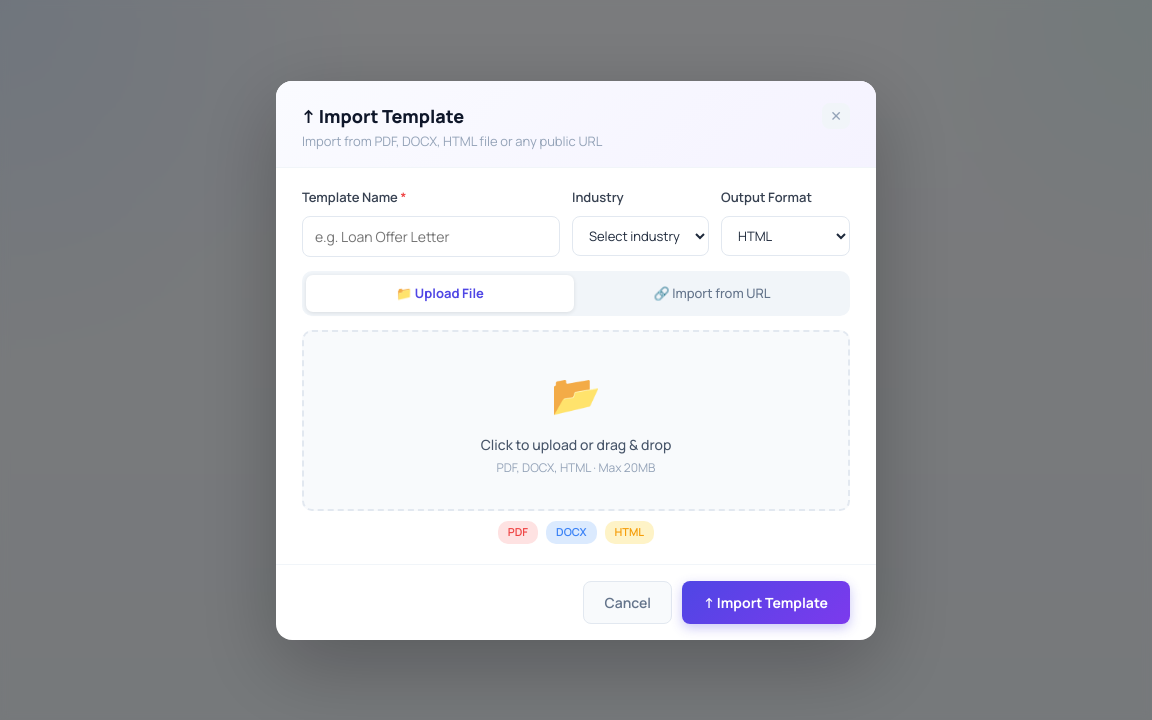
ImportTemplateModal › should_map_timeout_status_to_friendly_message_when_url_import_times_out
Click the button "🔗 Import from URL".
click(712, 293)  # box [578,274,846,312]
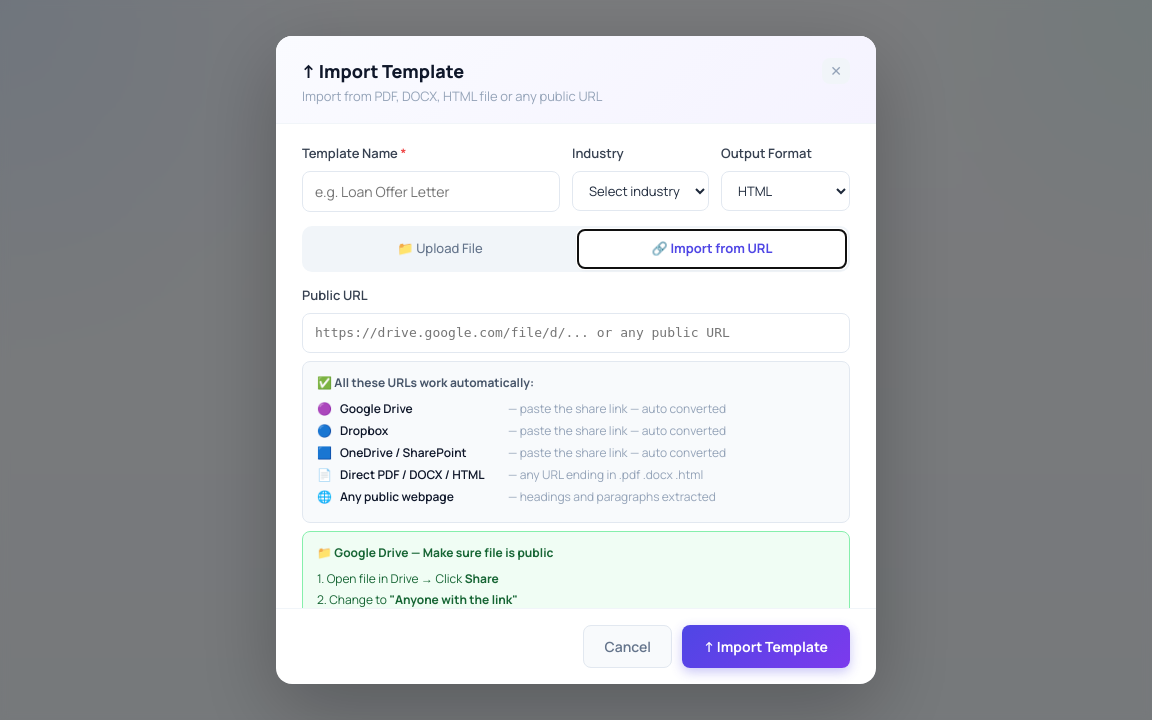
Type "Public Page" into the field with placeholder "e.g. Loan Offer Letter".
click(431, 192); type("Public Page")  # box [302,171,560,212]
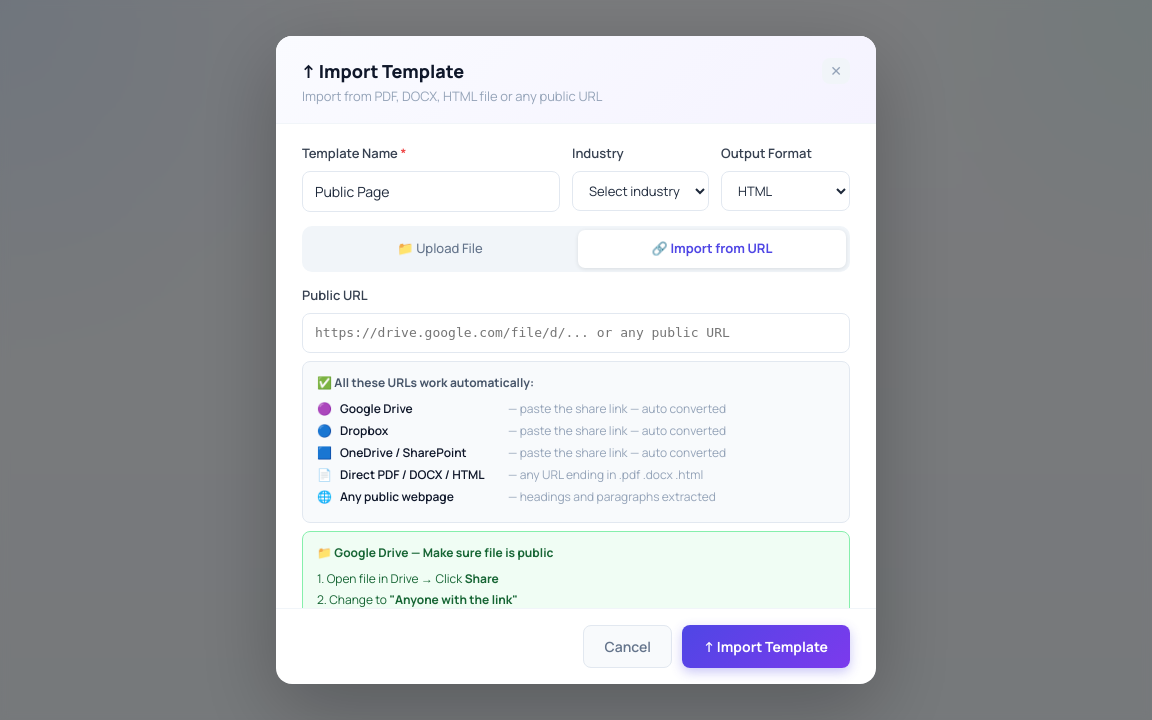
Type "https://example.com/template" into the field with placeholder "https://drive.google.com/file/d/... or any public URL".
click(576, 333); type("https://example.com/template")  # box [302,313,850,352]
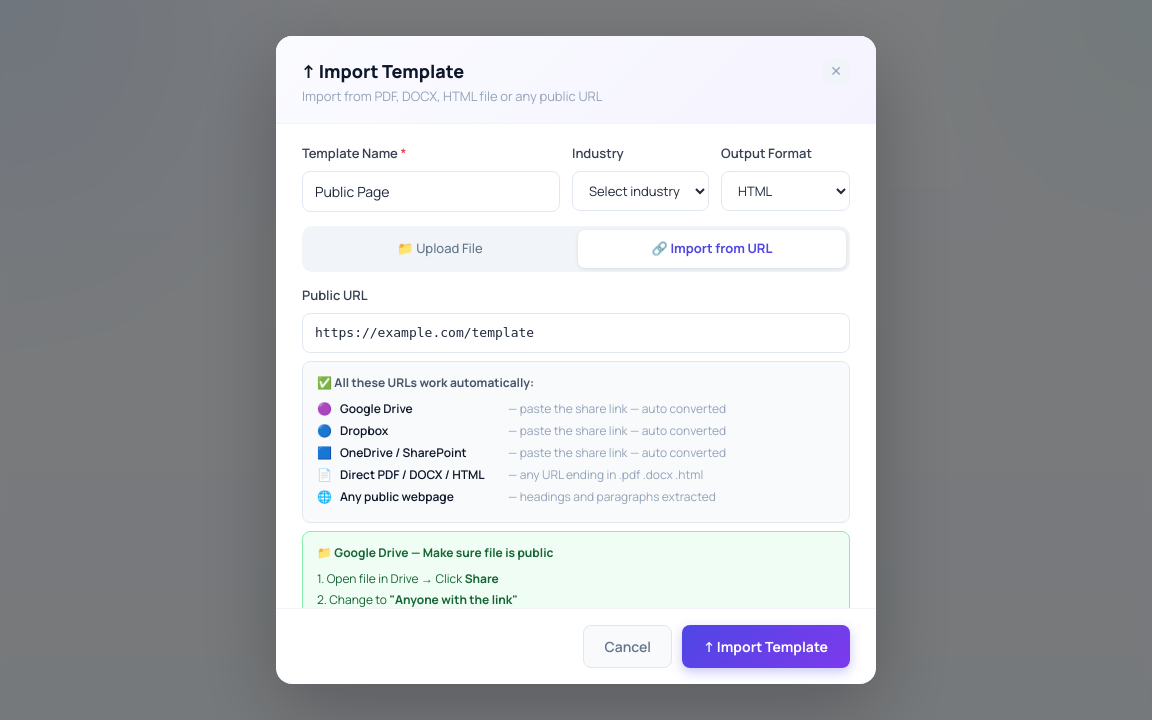
Click the button "↑ Import Template".
click(766, 646)  # box [682,625,850,668]
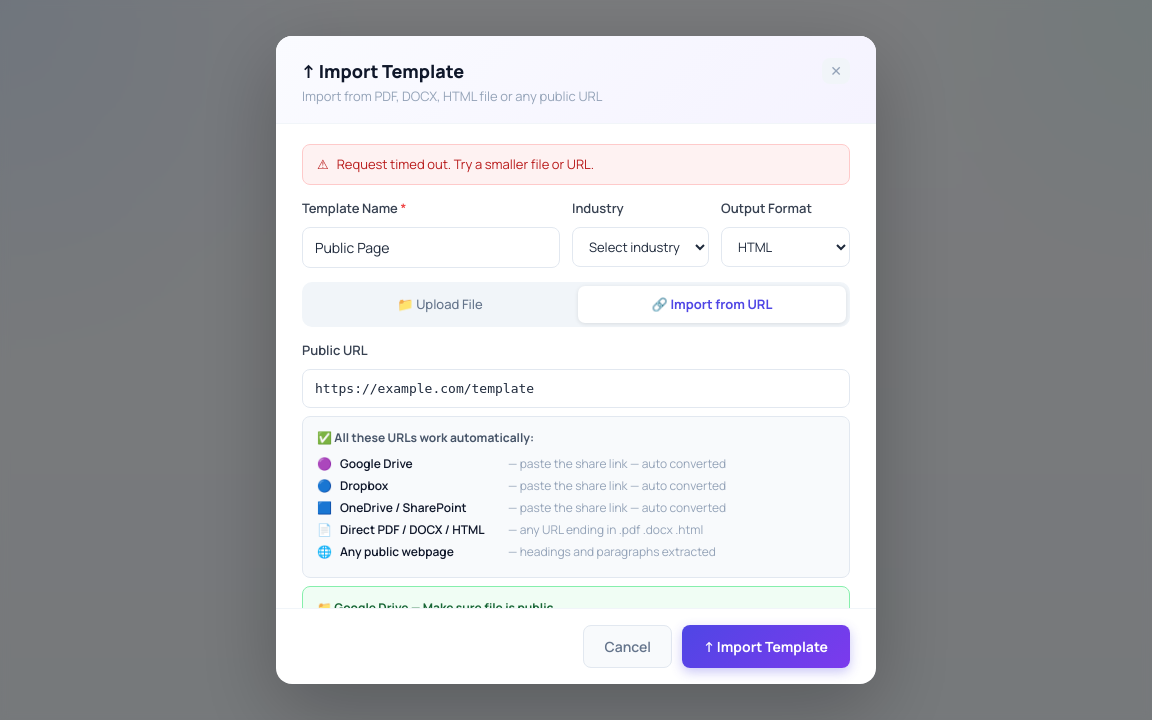
expect the text "Request timed out. Try a smaller file or URL." is shown: met, box [337,154,594,174]
